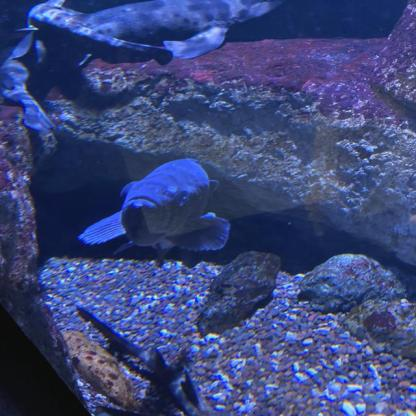fish: (78, 157, 229, 264)
shark: (0, 0, 284, 131)
